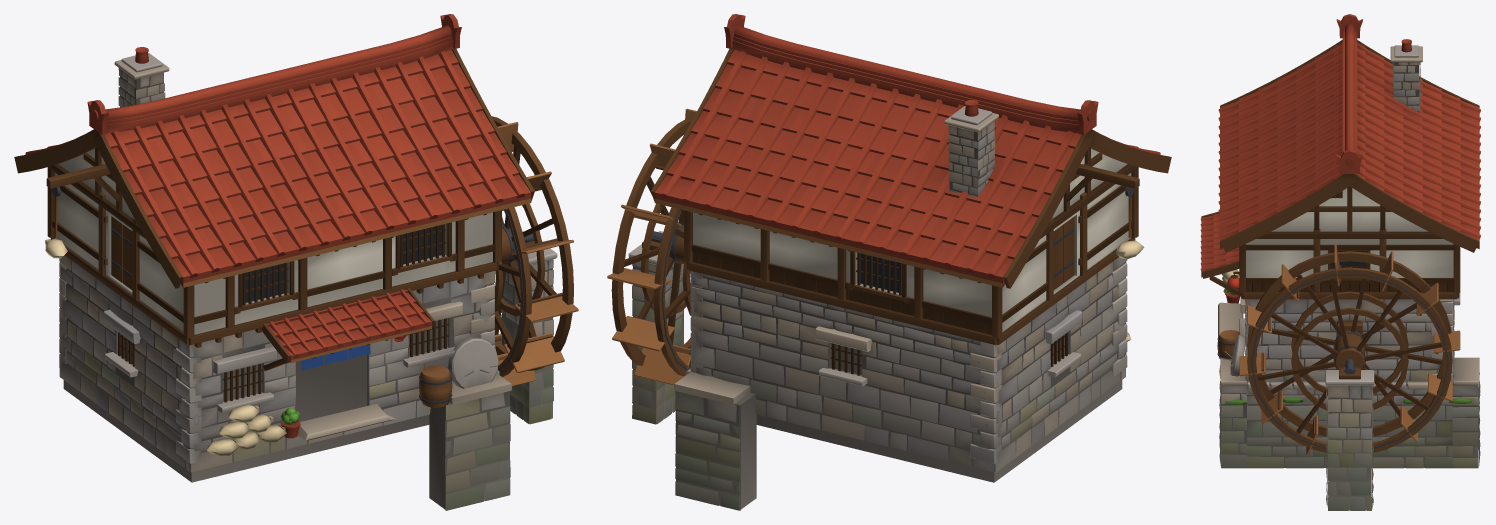
Rendered from mill.glb.
3 renders of one model, left to right at view 1: azimuth 30°, elevation 25°; view 2: azimuth 150°, elevation 25°; view 3: azimuth 270°, elevation 25°, orthographic. The views are drawn at different scales.
Parts seen in each view (by area): view 1: Mill Plaster, Mill Roof tile, Mill Wood, Wheel Wood, Mill Window glow, Mill Noren; view 2: Mill Plaster, Mill Roof tile, Mill Wood, Wheel Wood, Mill Window glow; view 3: Mill Plaster, Mill Roof tile, Wheel Wood, Mill Wood, Wheel Iron, Mill Leaf.
Boxes of the visible parts, x1,y1,x2,y2 form: Mill Plaster: (45, 53, 557, 510); Mill Roof tile: (25, 14, 531, 438); Mill Wood: (14, 48, 542, 407); Wheel Wood: (491, 116, 578, 386); Mill Window glow: (245, 225, 441, 302); Mill Noren: (301, 344, 370, 370); Mill Plaster: (628, 106, 1144, 510); Mill Roof tile: (654, 14, 1160, 286); Mill Wood: (642, 48, 1171, 375); Wheel Wood: (607, 108, 696, 385); Mill Window glow: (860, 253, 898, 292); Mill Plaster: (1218, 45, 1480, 510); Mill Roof tile: (1200, 14, 1480, 303); Wheel Wood: (1239, 244, 1460, 455); Mill Wood: (1201, 40, 1479, 379); Wheel Iron: (1251, 274, 1448, 449); Mill Leaf: (1224, 288, 1471, 405).
Bounding box in the file's own units: 12.27 × 9.94 × 7.68.
